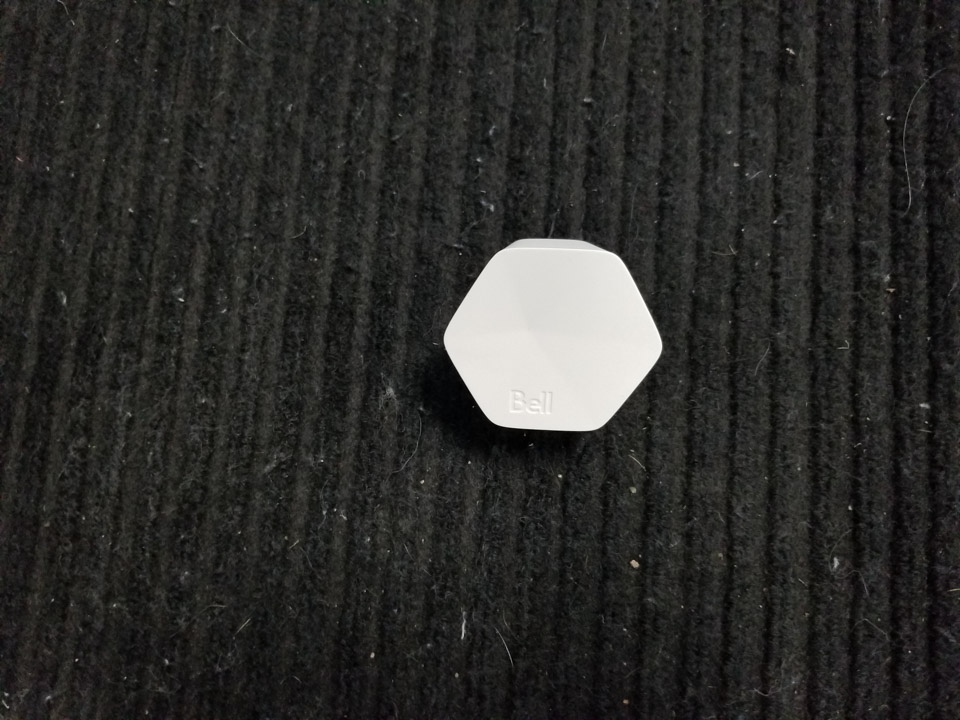pod: (436, 230, 674, 446)
